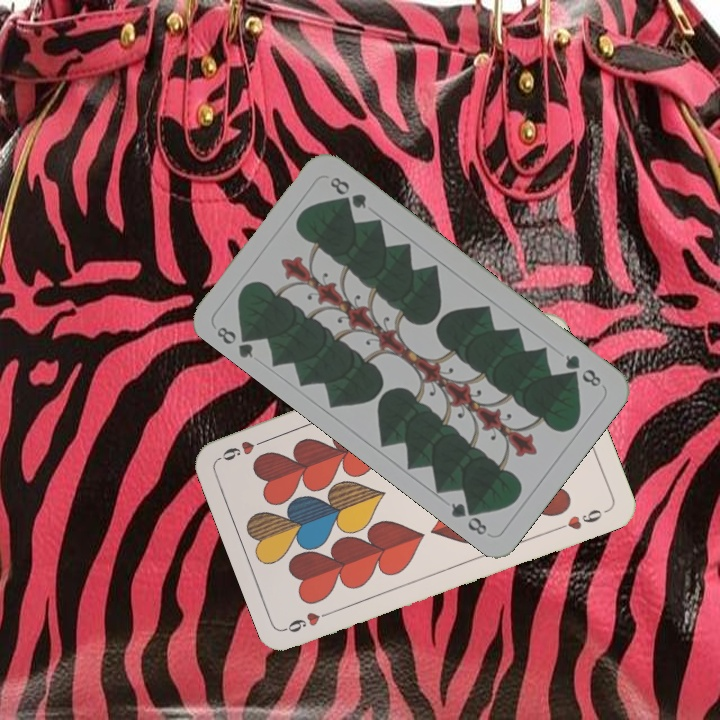G8: (212, 322, 258, 361), (561, 350, 604, 390)
H9: (282, 605, 339, 635)
